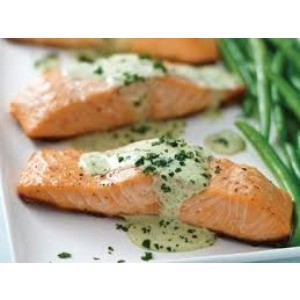salmon_brain food: (27, 54, 220, 144), (31, 163, 283, 231)
